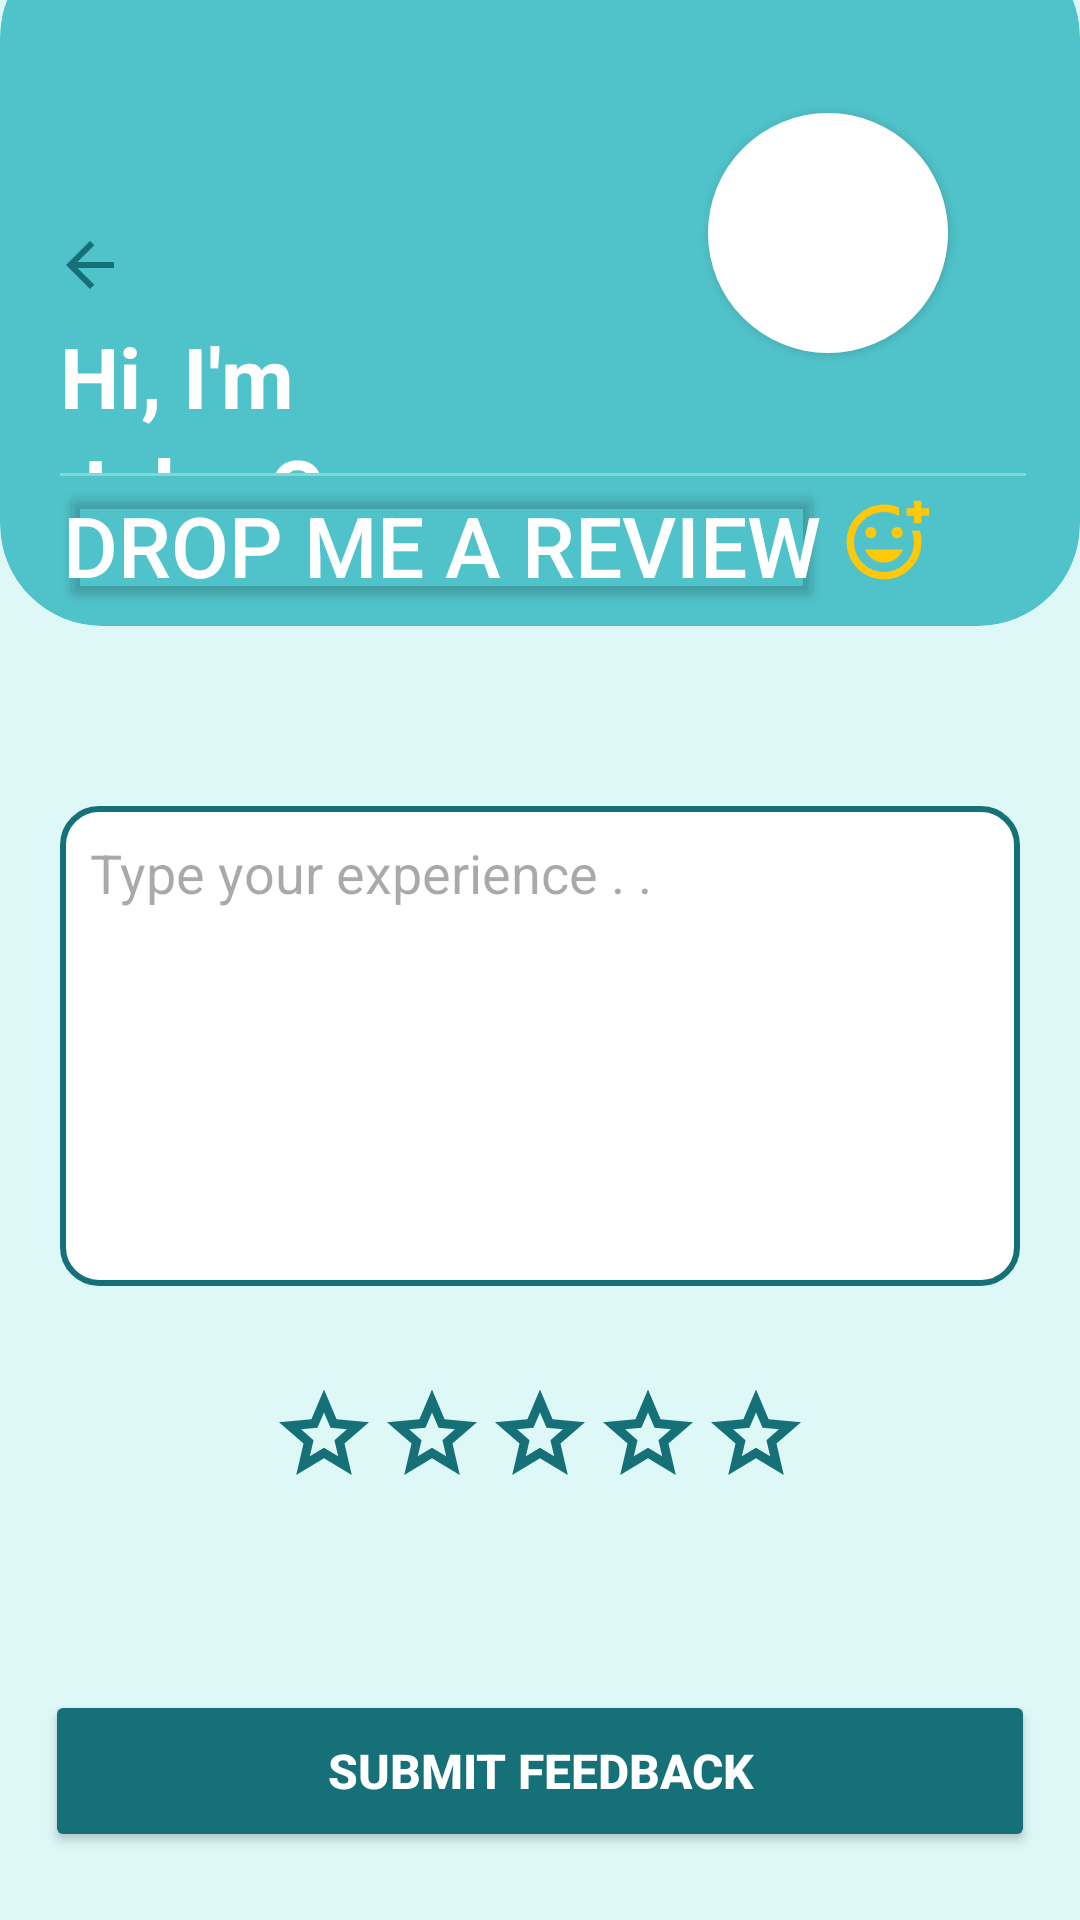

Where to tap for icons on this 1080px x 1920px app screen, as [x,y]:
add reaction: [887,540]
back arrow: [90,265]
star: [324,1432], [432,1432], [540,1432], [648,1432], [756,1432]
